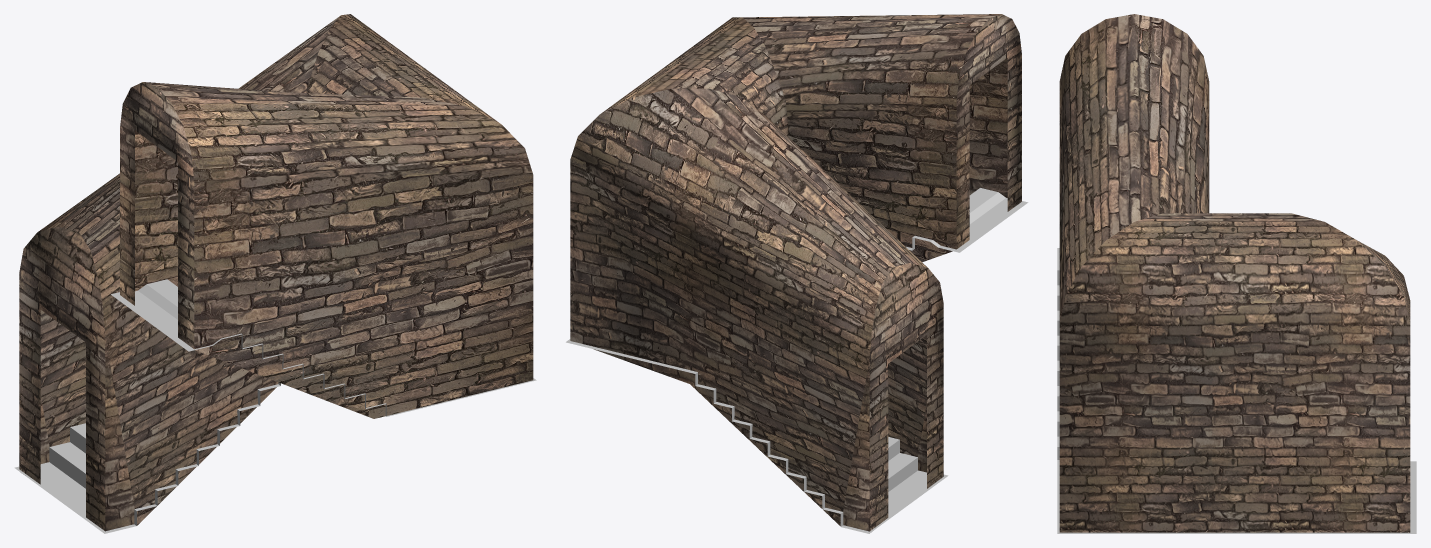
The model's file is cellarStairs.fbx.
3 views of the same model, side by side, from view 1: azimuth 30°, elevation 25°; view 2: azimuth 150°, elevation 25°; view 3: azimuth 270°, elevation 25° (orthographic). The views are drawn at different scales.
Visible parts, largest first — view 1: polySurface1818, polySurface1844; view 2: polySurface1818, polySurface1844; view 3: polySurface1818, polySurface1844.
Part boxes in pixels (left/top/right/bottom): polySurface1818: left=19, top=14, right=533, bottom=531; polySurface1844: left=14, top=279, right=536, bottom=533; polySurface1818: left=570, top=14, right=1021, bottom=531; polySurface1844: left=566, top=188, right=1028, bottom=533; polySurface1818: left=1059, top=14, right=1410, bottom=532; polySurface1844: left=1057, top=248, right=1416, bottom=533.
Size of the model in its own units: 469 by 624 by 415.
